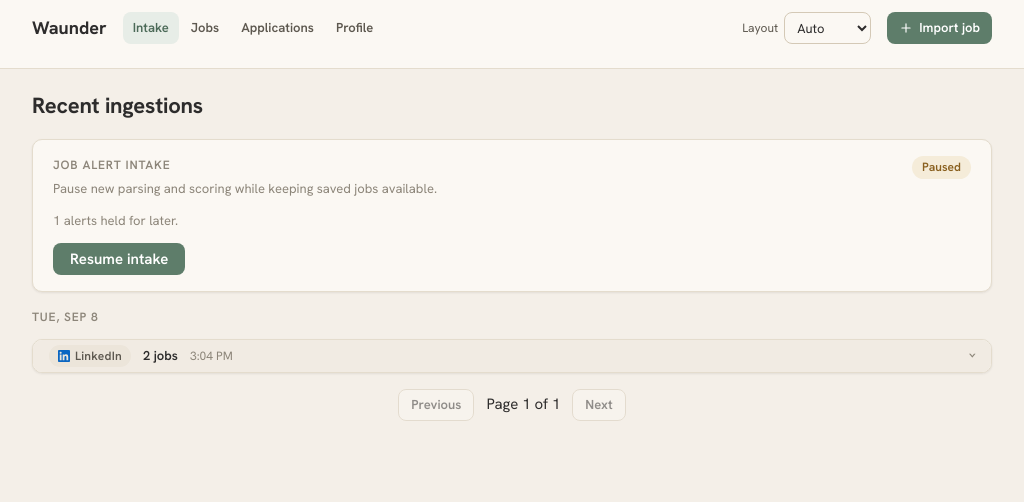
intake control › reports a failed toggle and leaves the pipeline where it was
Expected: the element with class "digest-content" is shown, [32,139,992,421]
Click the button "Resume intake" at [119, 259], box [53,243,185,275]
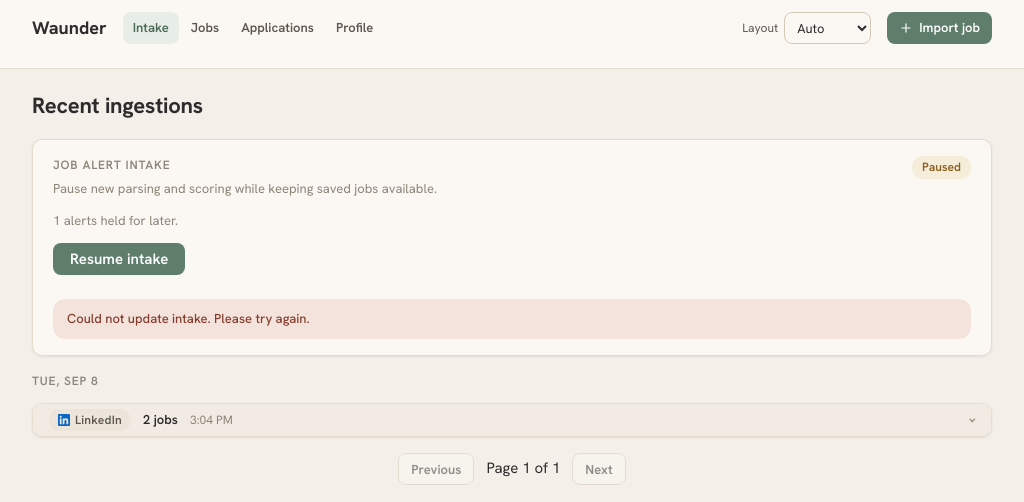
Expected: the text "Paused" is shown, [912,156,971,179]
Expected: the text with class "intake-error" reads "Could not update intake. Please try again.", [67,310,310,327]
